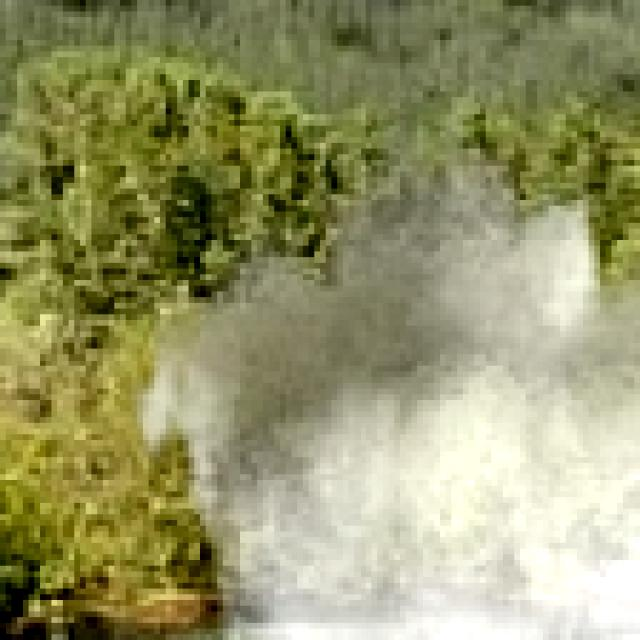smoke: (125, 97, 640, 640)
